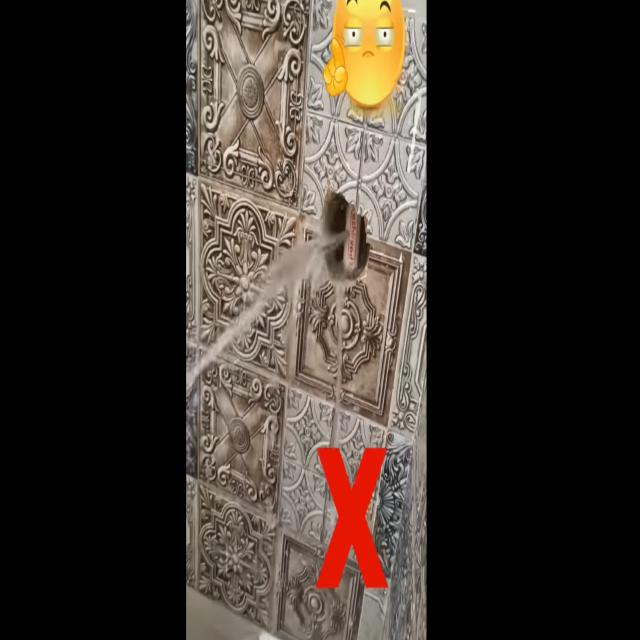leak: (186, 231, 344, 393)
